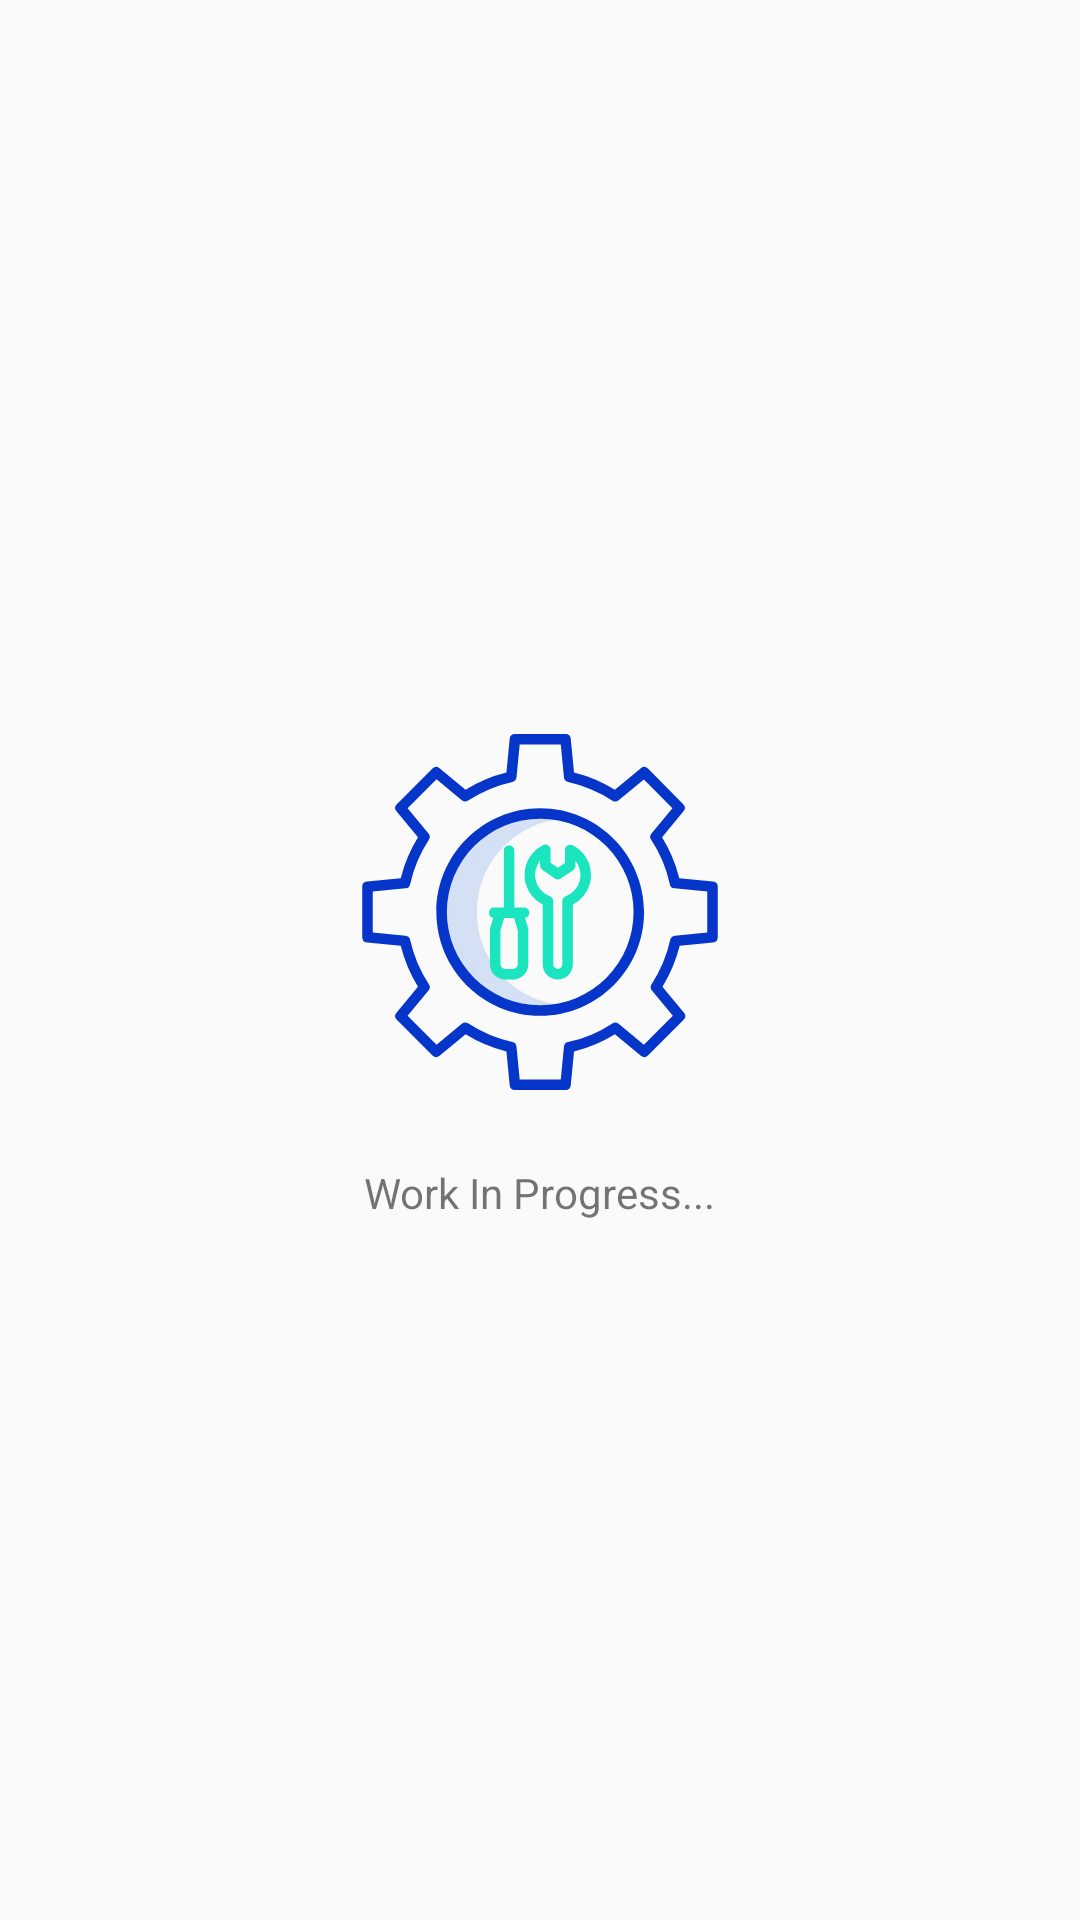

Where to tap for icons on this 1080 x 1920 app screen, as (x,y):
maintenance: (540,912)
